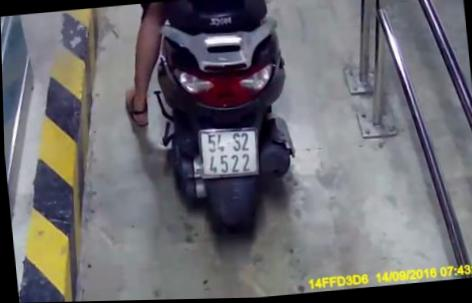LP: (195, 126, 261, 182)
